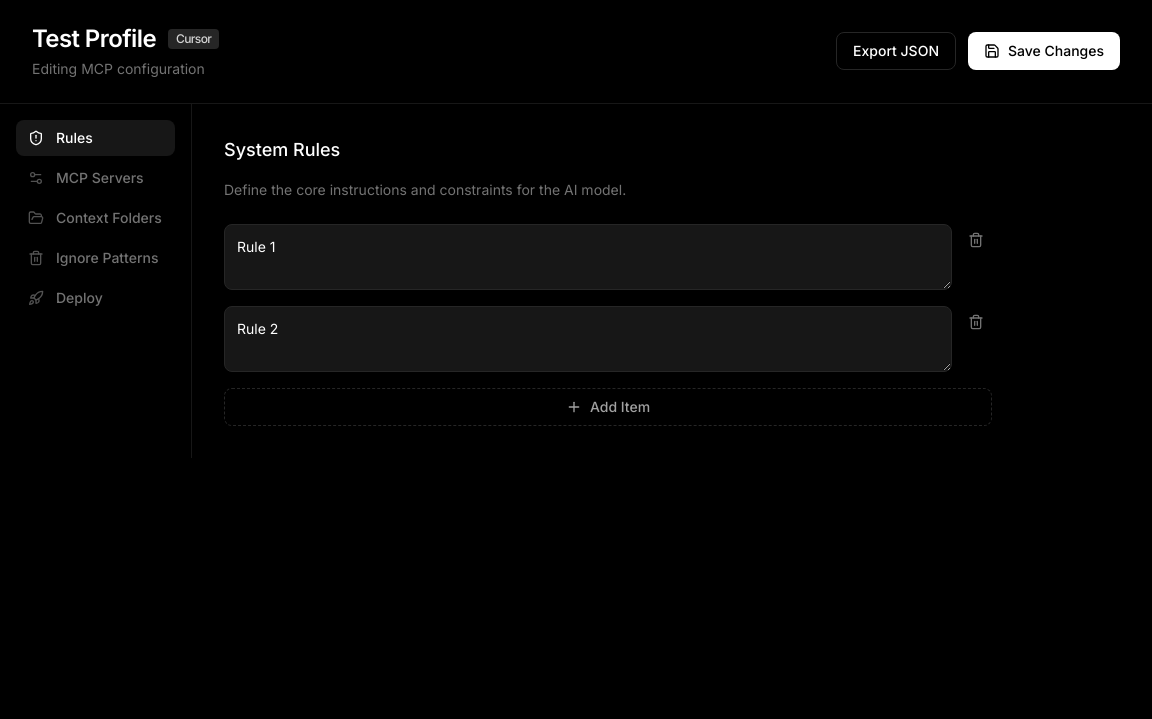
Test: EditorView › shows generated JSON config output
This screenshot has width=1152, height=719.
Step 1. Click the button "Deploy" → (96, 298), box [16, 280, 175, 316]
(page scrolled)
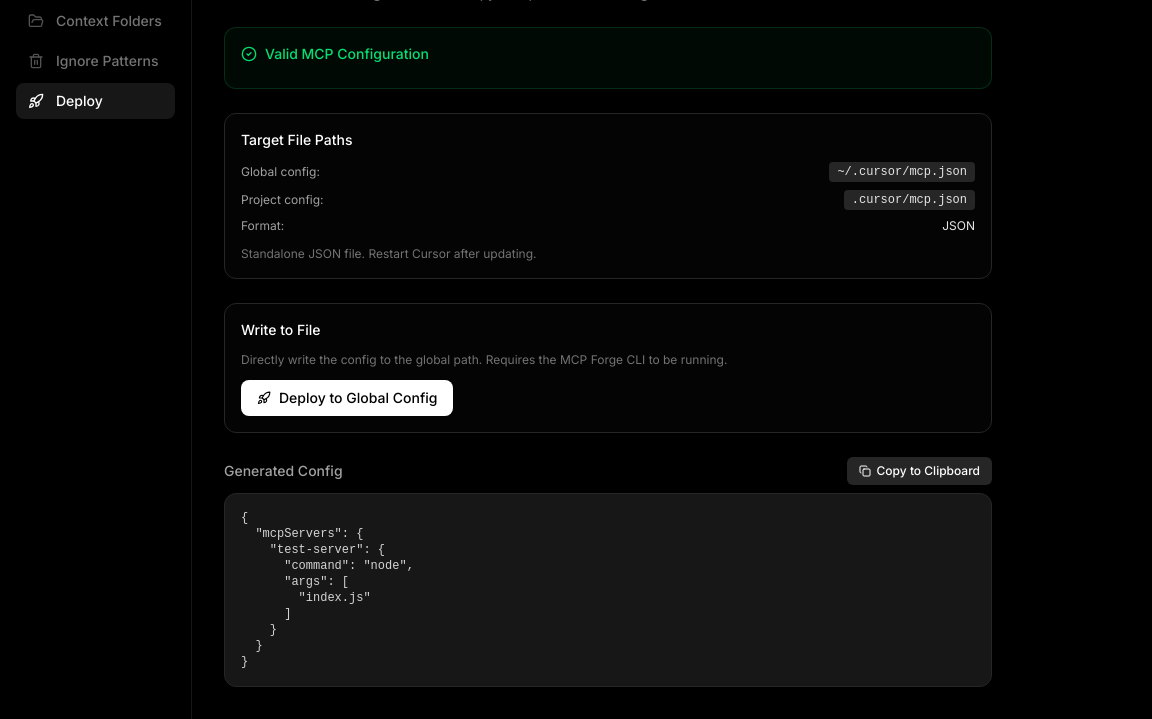
Now the text with test id "config-output" shows "mcpServers", box [241, 511, 414, 669]
Now the text with test id "config-output" shows "test-server", box [241, 511, 414, 669]
